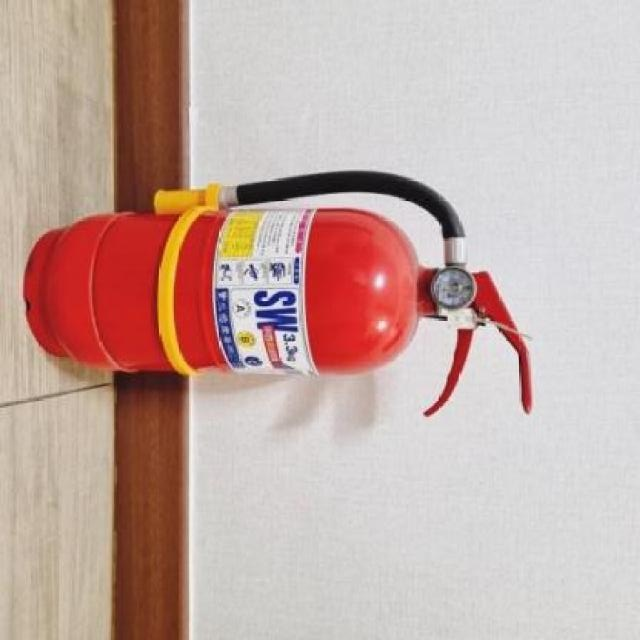fire extinguisher: (22, 170, 533, 418)
